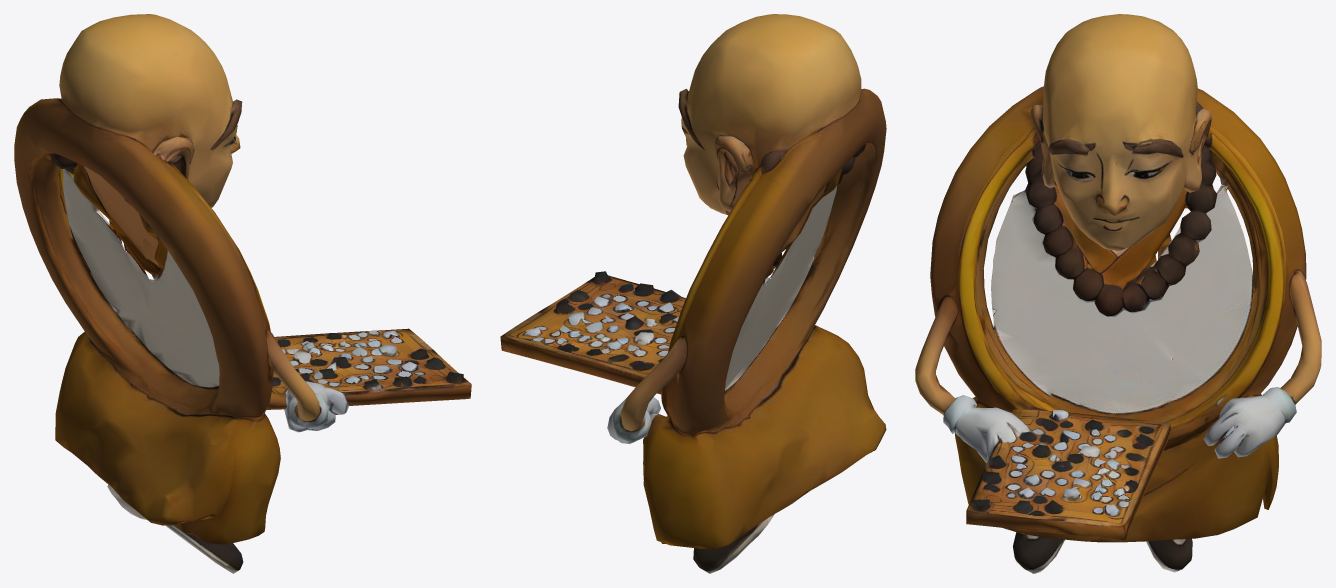
The model's file is c_nanbei.glb.
3 views of the same model, side by side, from view 1: azimuth 30°, elevation 25°; view 2: azimuth 150°, elevation 25°; view 3: azimuth 270°, elevation 25° (orthographic). The views are drawn at different scales.
Visible parts, largest first — view 1: tripo_node_f7313cfe-c17b-46a0-8ed4-da8fe6a96f86; view 2: tripo_node_f7313cfe-c17b-46a0-8ed4-da8fe6a96f86; view 3: tripo_node_f7313cfe-c17b-46a0-8ed4-da8fe6a96f86.
Boxes of the visible parts, x1=… form: tripo_node_f7313cfe-c17b-46a0-8ed4-da8fe6a96f86: x1=14, y1=14, x2=471, y2=573; tripo_node_f7313cfe-c17b-46a0-8ed4-da8fe6a96f86: x1=500, y1=14, x2=886, y2=573; tripo_node_f7313cfe-c17b-46a0-8ed4-da8fe6a96f86: x1=915, y1=14, x2=1321, y2=573.
Size of the model in its own units: 0.6813 by 1 by 0.7027.
Materials: 1 (1 with a texture image).
